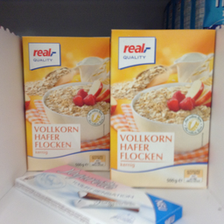cereal: (110, 29, 217, 187), (21, 36, 109, 171)
